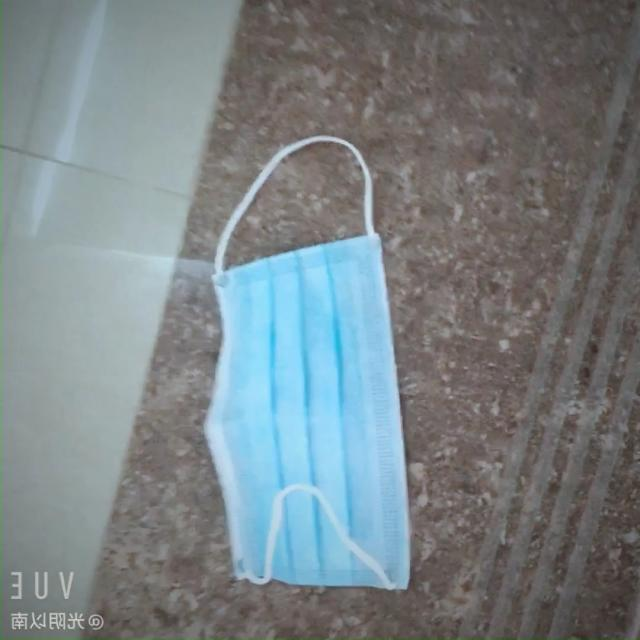face mask: (198, 225, 440, 590)
